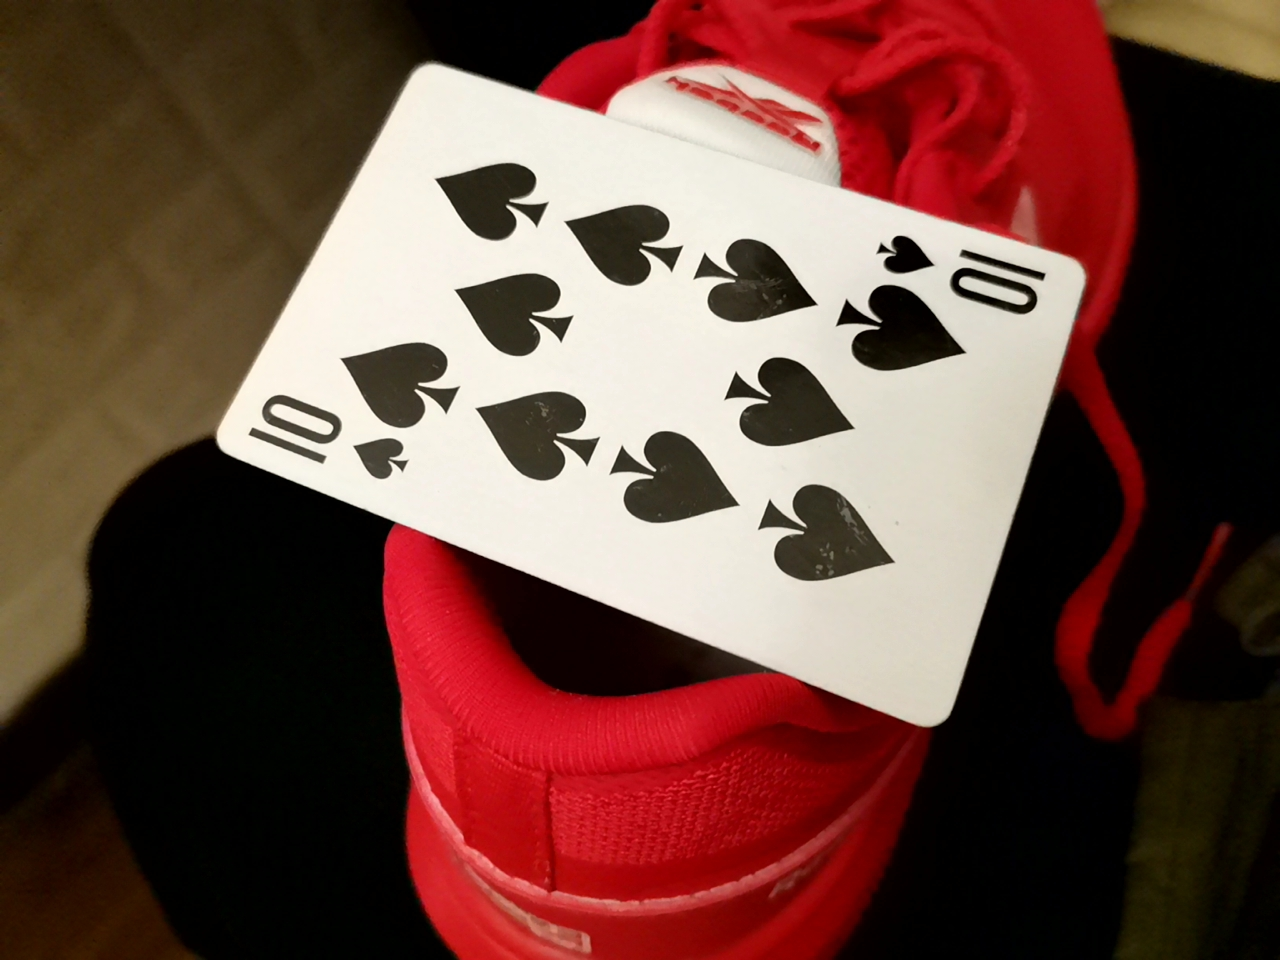ht 10: (204, 74, 1076, 734)
